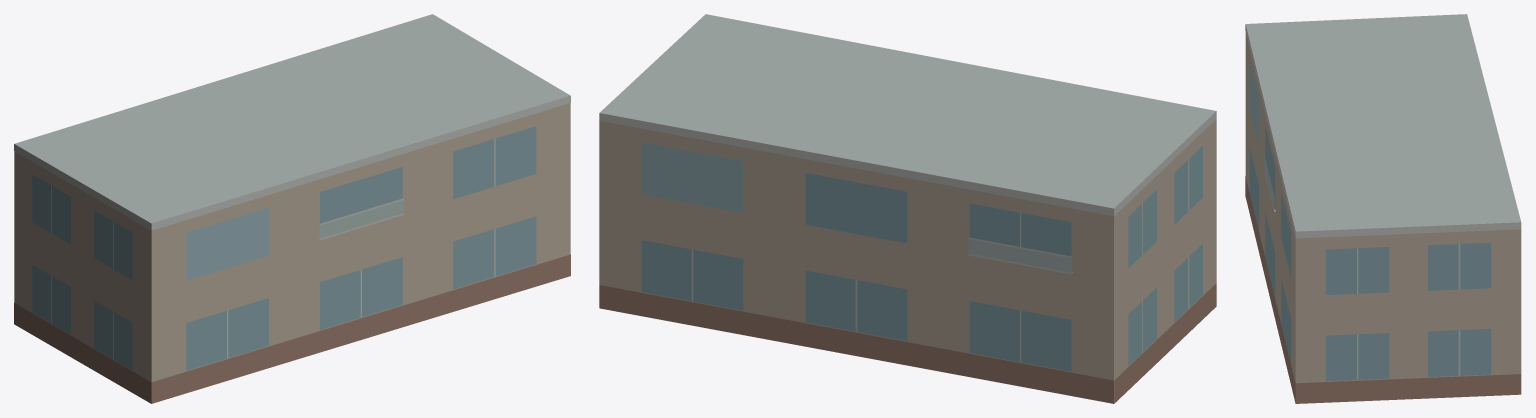
The model's file is survey-upis-32666922.glb.
3 views of the same model, side by side, from view 1: azimuth 30°, elevation 25°; view 2: azimuth 150°, elevation 25°; view 3: azimuth 270°, elevation 25° (orthographic). The views are drawn at different scales.
Visible parts, largest first — view 1: survey-upis-32666922.tmp; view 2: survey-upis-32666922.tmp; view 3: survey-upis-32666922.tmp.
Boxes of the visible parts, bbox=[...] form: survey-upis-32666922.tmp: bbox=[14, 14, 570, 403]; survey-upis-32666922.tmp: bbox=[599, 14, 1216, 403]; survey-upis-32666922.tmp: bbox=[1245, 14, 1521, 403].
Size of the model in its own units: 16.54 by 6.1 by 8.86.
